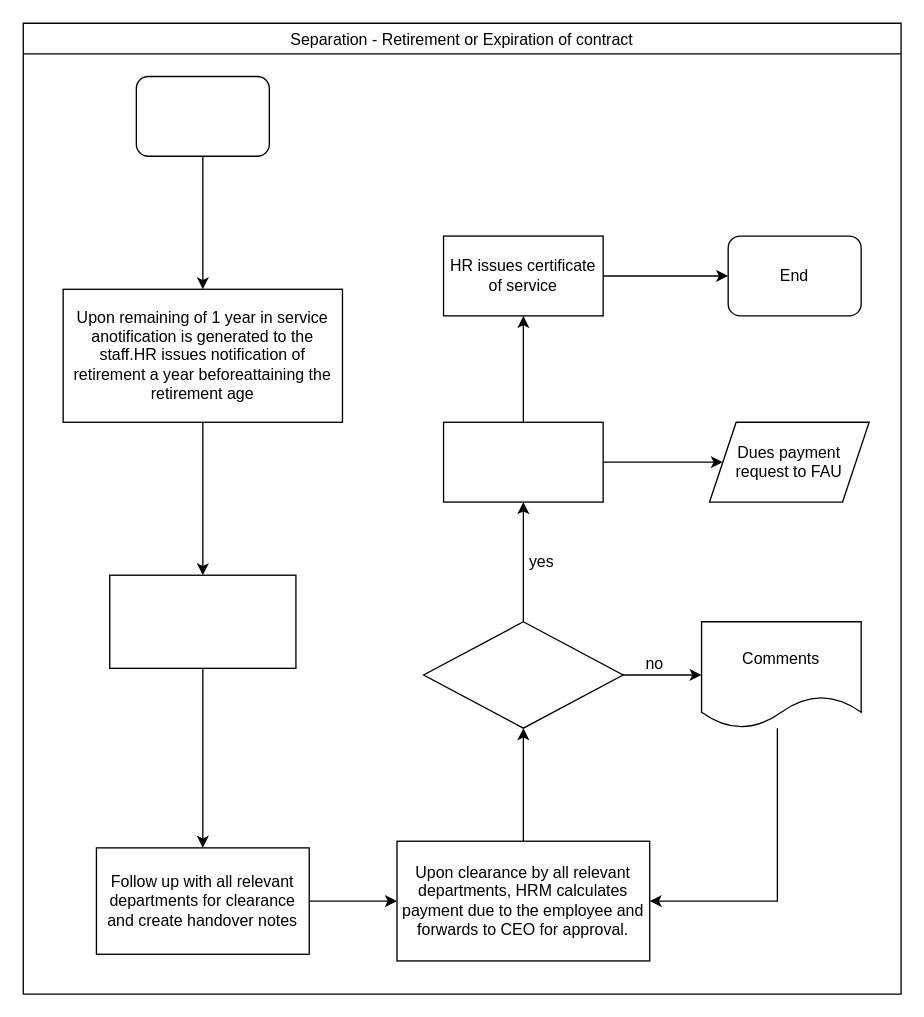
Some shapes in this 924 by 1017 pixel diagram are drawn without their labels. Here are the shapes that lost their labels. From the top down, the box of each, then its label:
(135, 75, 269, 156): Start
(442, 421, 603, 502): Notify HR and forward to FAU for dues payment
(108, 574, 296, 668): HRM notifies the respective HOD and employee to start clearance
(422, 620, 623, 728): Dues approved by CEO?
